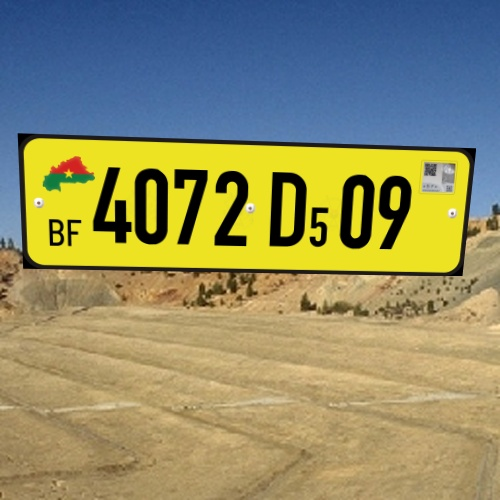plate: (6, 122, 481, 297)
